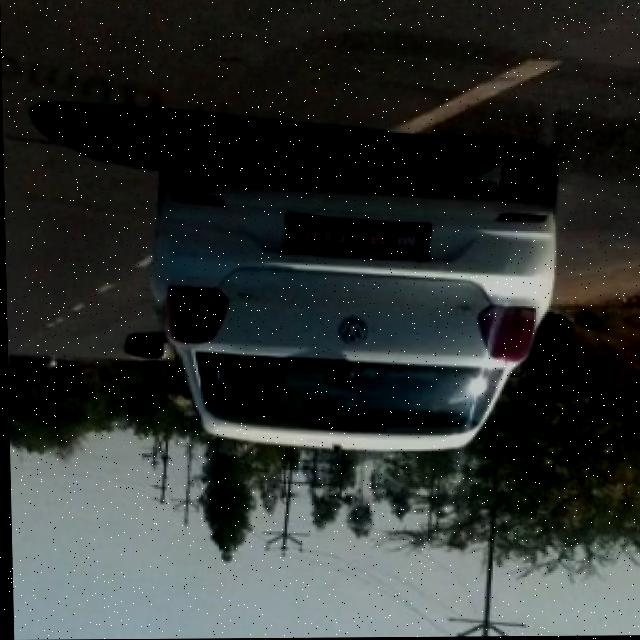plate: (281, 215, 433, 267)
